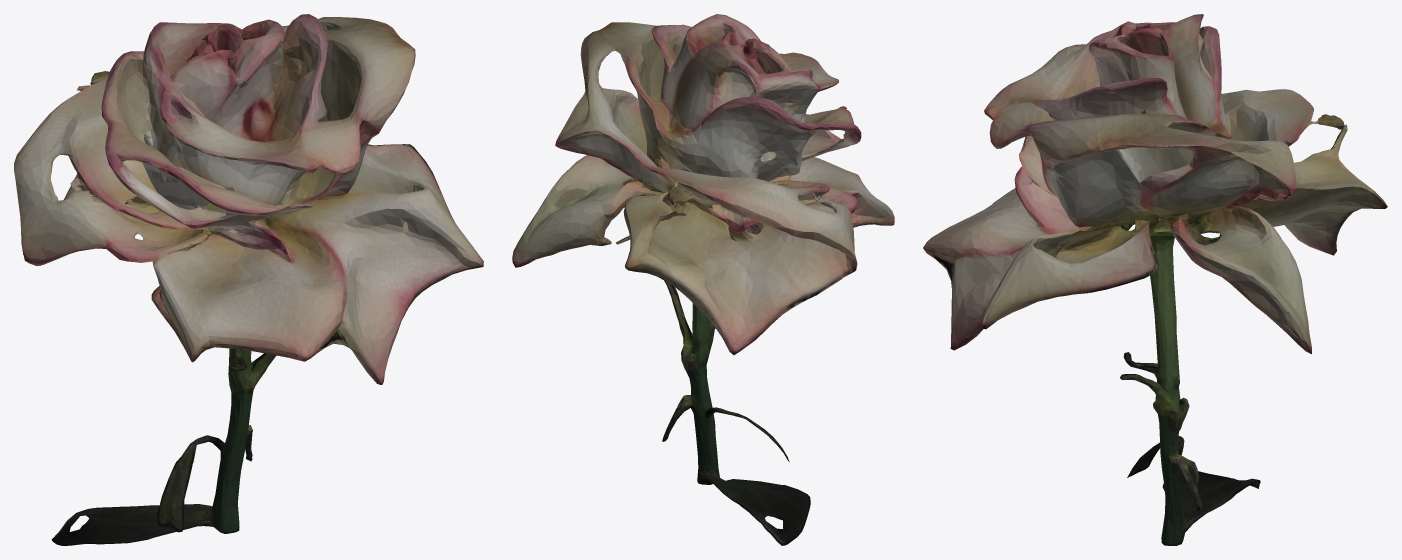
3 views of the same model, side by side, from view 1: azimuth 30°, elevation 25°; view 2: azimuth 150°, elevation 25°; view 3: azimuth 270°, elevation 25° (orthographic). The views are drawn at different scales.
Visible parts, largest first — view 1: world; view 2: world; view 3: world.
Part boxes in pixels (bbox=[...]): world: bbox=[14, 14, 483, 545]; world: bbox=[512, 14, 894, 545]; world: bbox=[923, 14, 1387, 545].
Bounding box in the file's own units: 0.6184 × 0.8572 × 0.6955.
1 material, 1 textured.
